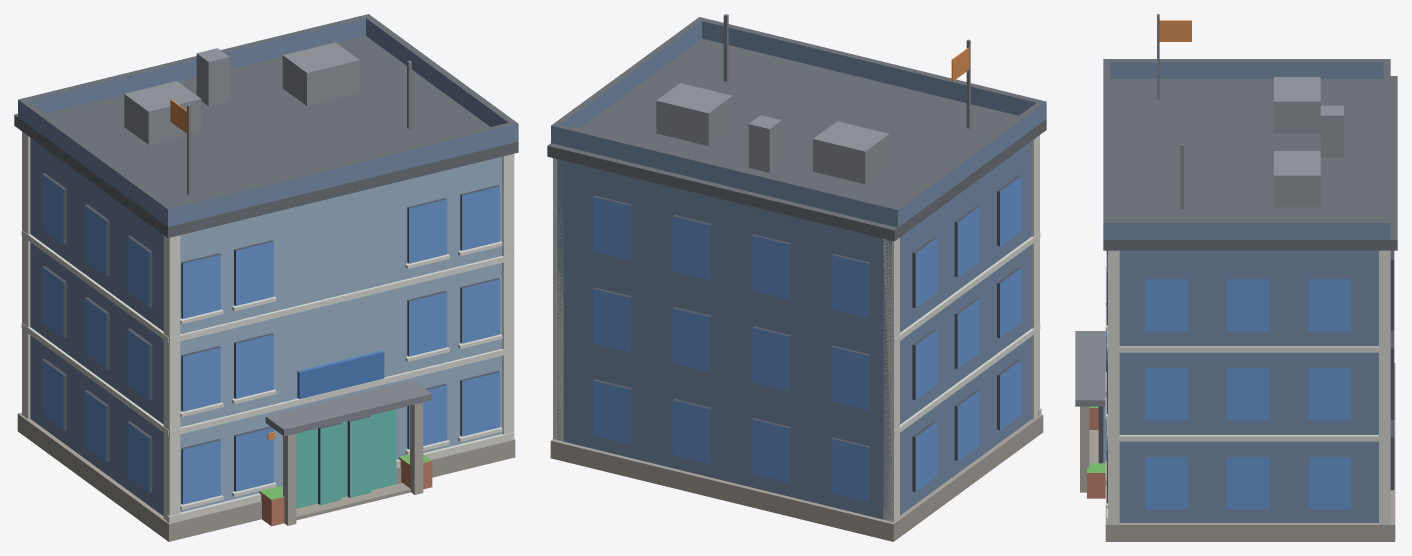
Rendered from Office.fbx.
3 renders of one model, left to right at view 1: azimuth 30°, elevation 25°; view 2: azimuth 150°, elevation 25°; view 3: azimuth 270°, elevation 25°, orthographic. The views are drawn at different scales.
Visible parts, largest first — view 1: Office; view 2: Office; view 3: Office.
Part boxes in pixels (x1,y1,x2,y2): Office: (14,14,518,541); Office: (547,14,1046,541); Office: (1075,14,1397,541).
Size of the model in its own units: 1660 by 1830 by 1380.
